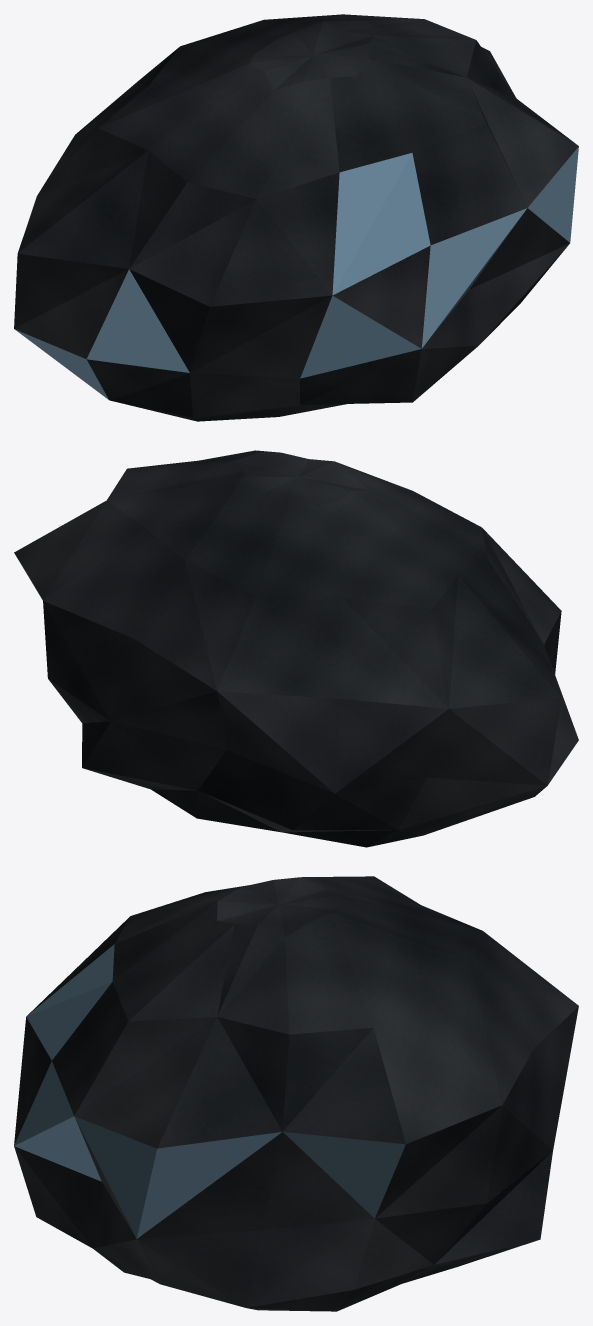
The model's file is SuperdenseStoneB.fbx.
3 renders of one model, top to bottom at view 1: azimuth 30°, elevation 25°; view 2: azimuth 150°, elevation 25°; view 3: azimuth 270°, elevation 25°, orthographic. The views are drawn at different scales.
Parts seen in each view (by area): view 1: Superdense_Loose_B_LOD0; view 2: Superdense_Loose_B_LOD0; view 3: Superdense_Loose_B_LOD0.
Part boxes in pixels (<box>): Superdense_Loose_B_LOD0: <box>14,14,578,421</box>; Superdense_Loose_B_LOD0: <box>14,450,578,847</box>; Superdense_Loose_B_LOD0: <box>14,876,578,1311</box>.
Size of what is drawn, in the model's own units: 17590 by 10375 by 14459.
